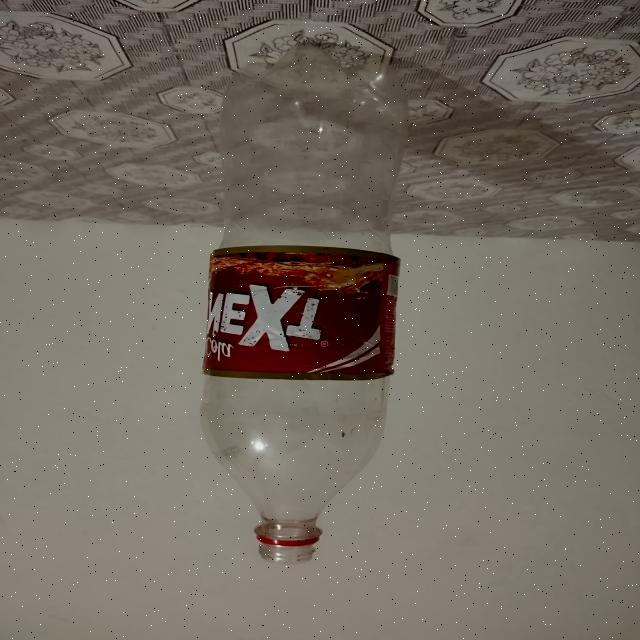bottle: (200, 39, 400, 568)
label: (198, 239, 396, 387)
